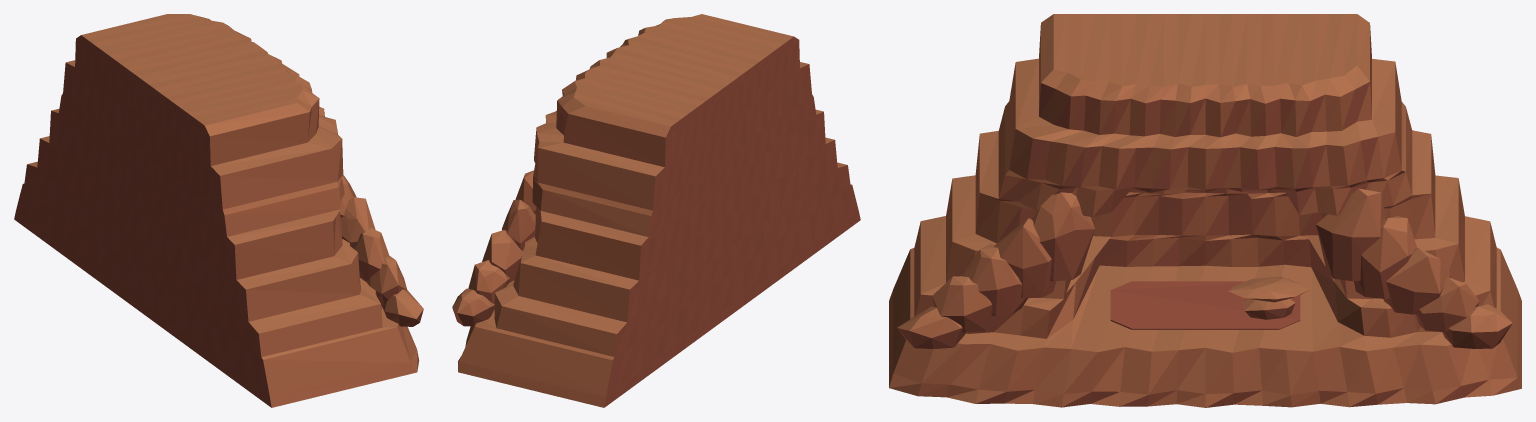
Rendered from asset.glb.
3 views of the same model, side by side, from view 1: azimuth 30°, elevation 25°; view 2: azimuth 150°, elevation 25°; view 3: azimuth 270°, elevation 25° (orthographic). The views are drawn at different scales.
Visible parts, largest first — view 1: Eroded terraced alcove, Outer fractured ledge -1 2, Outer fractured ledge -1 1, Outer fractured ledge -1 3, Outer fractured ledge -1 4; view 2: Eroded terraced alcove, Outer fractured ledge 1 2, Outer fractured ledge 1 4, Outer fractured ledge 1 1, Outer fractured ledge 1 3, Outer fractured ledge 1 0; view 3: Eroded terraced alcove, Shelter floor, Outer fractured ledge 1 0, Outer fractured ledge -1 0, Outer fractured ledge 1 1, Outer fractured ledge 1 2, Outer fractured ledge -1 1, Outer fractured ledge -1 2, Outer fractured ledge -1 3, Outer fractured ledge 1 4, Outer fractured ledge 1 3, Outer fractured ledge -1 4 (+2 smaller).
Part boxes in pixels (x1,y1,x2,y2): Eroded terraced alcove: [14, 14, 419, 407]; Outer fractured ledge -1 2: [353, 228, 389, 281]; Outer fractured ledge -1 1: [340, 197, 375, 247]; Outer fractured ledge -1 3: [366, 256, 407, 305]; Outer fractured ledge -1 4: [381, 289, 423, 326]; Eroded terraced alcove: [458, 14, 860, 407]; Outer fractured ledge 1 2: [482, 230, 522, 282]; Outer fractured ledge 1 4: [452, 288, 494, 326]; Outer fractured ledge 1 1: [502, 199, 535, 250]; Outer fractured ledge 1 3: [468, 260, 510, 303]; Outer fractured ledge 1 0: [515, 170, 535, 215]; Eroded terraced alcove: [889, 14, 1521, 407]; Shelter floor: [1110, 281, 1300, 329]; Outer fractured ledge 1 0: [1316, 188, 1385, 281]; Outer fractured ledge -1 0: [1032, 192, 1094, 281]; Outer fractured ledge 1 1: [1354, 216, 1416, 298]; Outer fractured ledge 1 2: [1383, 247, 1450, 314]; Outer fractured ledge -1 1: [994, 218, 1056, 298]; Outer fractured ledge -1 2: [962, 243, 1027, 316]; Outer fractured ledge -1 3: [932, 276, 995, 332]; Outer fractured ledge 1 4: [1442, 304, 1512, 348]; Outer fractured ledge 1 3: [1416, 277, 1479, 332]; Outer fractured ledge -1 4: [897, 306, 966, 348].
Bounding box in the file's own units: 12.03 × 15 × 30.
